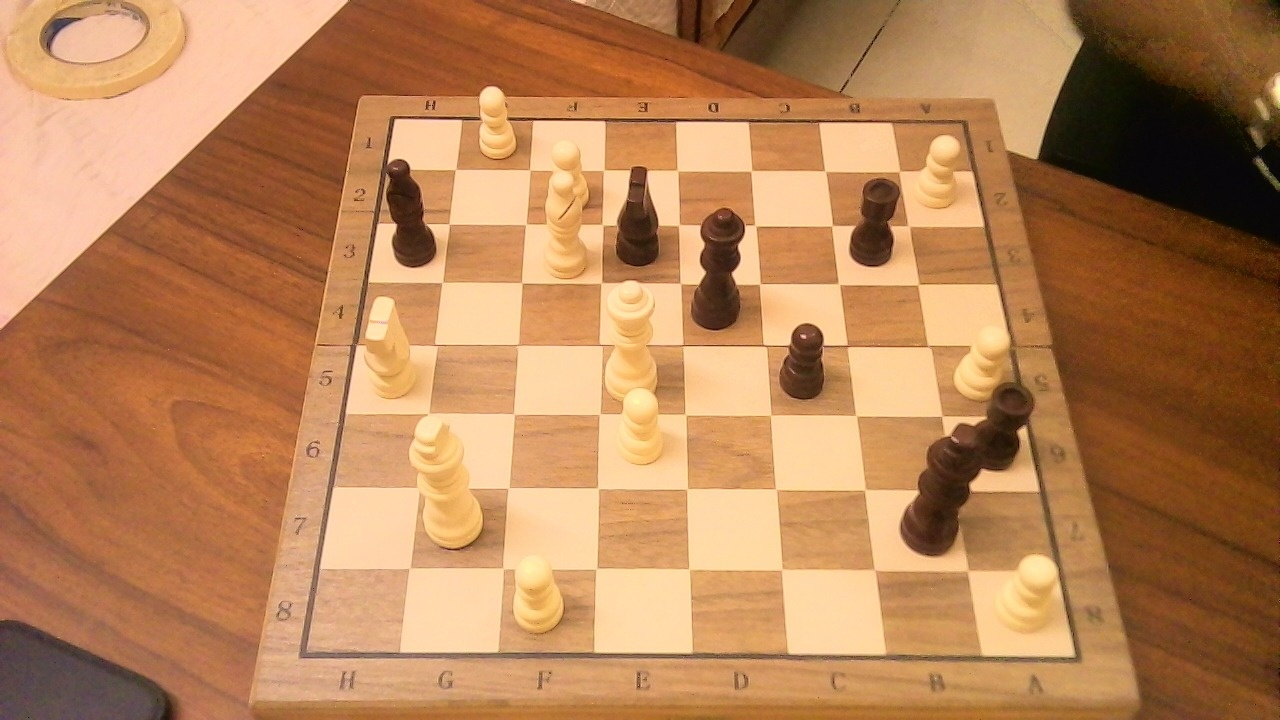B: (531, 160, 596, 282)
K: (406, 403, 493, 552)
N: (353, 323, 423, 404)
P: (989, 544, 1068, 637), (505, 544, 572, 638), (947, 316, 1018, 404), (606, 378, 670, 470), (910, 126, 970, 213), (468, 78, 523, 162), (540, 132, 594, 213)
Q: (603, 268, 667, 407)
b: (378, 147, 443, 272)
k: (894, 409, 995, 564)
n: (608, 155, 672, 270)
p: (774, 314, 835, 403)
q: (687, 196, 760, 334)
r: (961, 370, 1044, 473), (843, 164, 911, 272)
